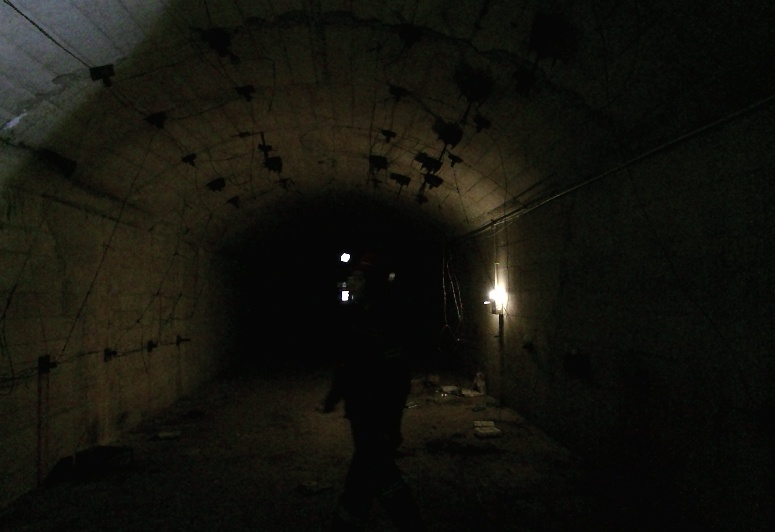person: (344, 253, 446, 532)
